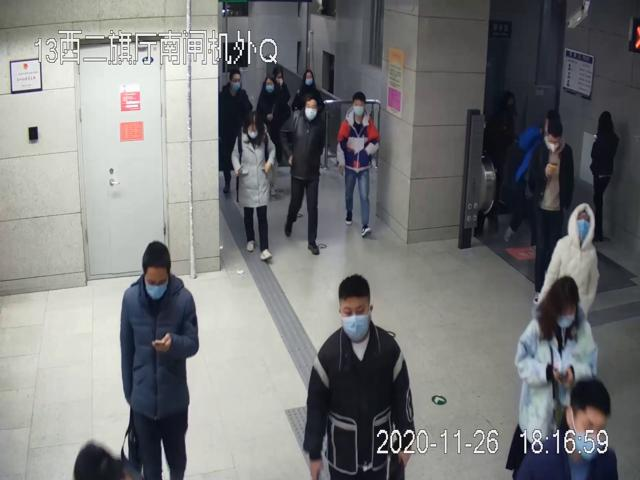person: (304, 273, 418, 480), (120, 241, 199, 480), (532, 121, 573, 305), (277, 97, 323, 255), (231, 110, 274, 261), (335, 92, 378, 236)
